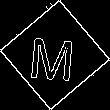M_N: (30, 28, 80, 82)
